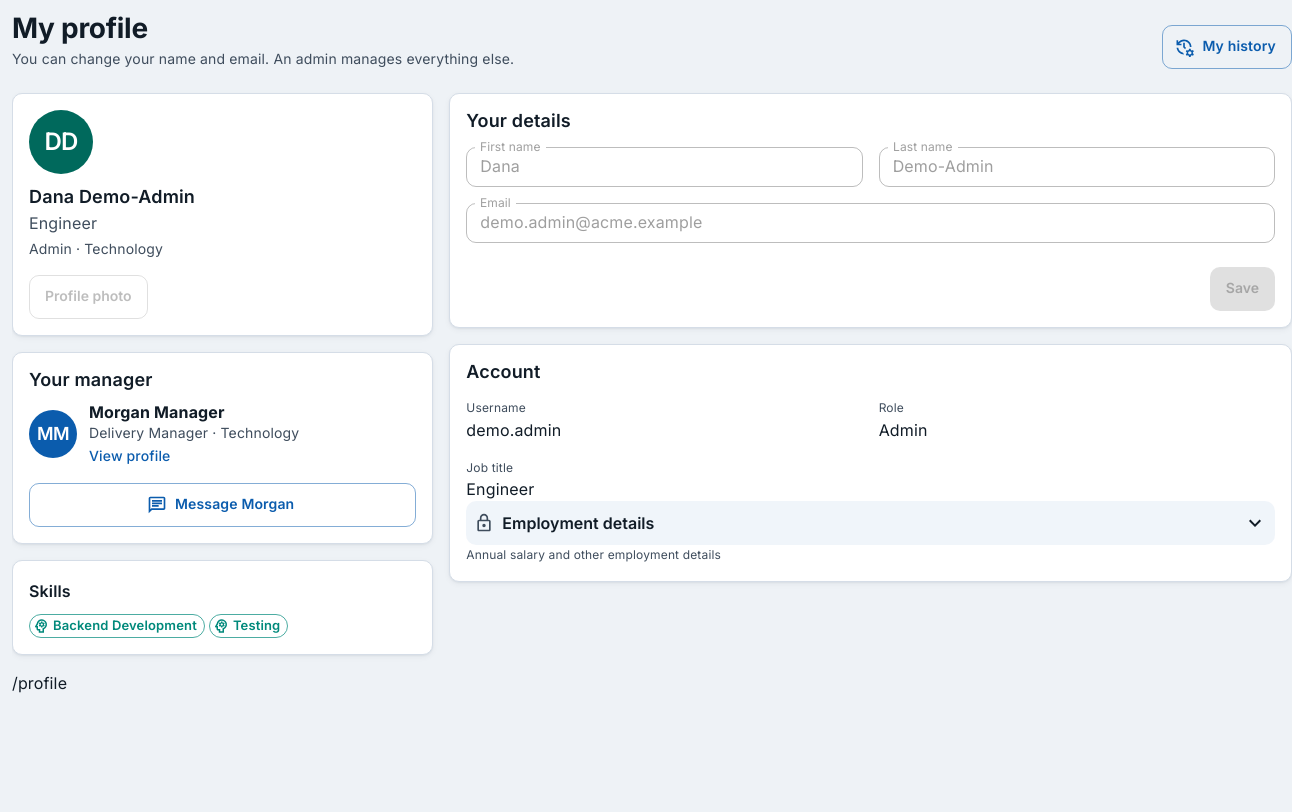
Scenario: My profile › the demo admin cannot change the photo or save
Check: the button "Profile photo" is disabled, box [29,275,148,319]
Hover over the element showing "Profile photo" at (88, 291), box [29,263,148,319]
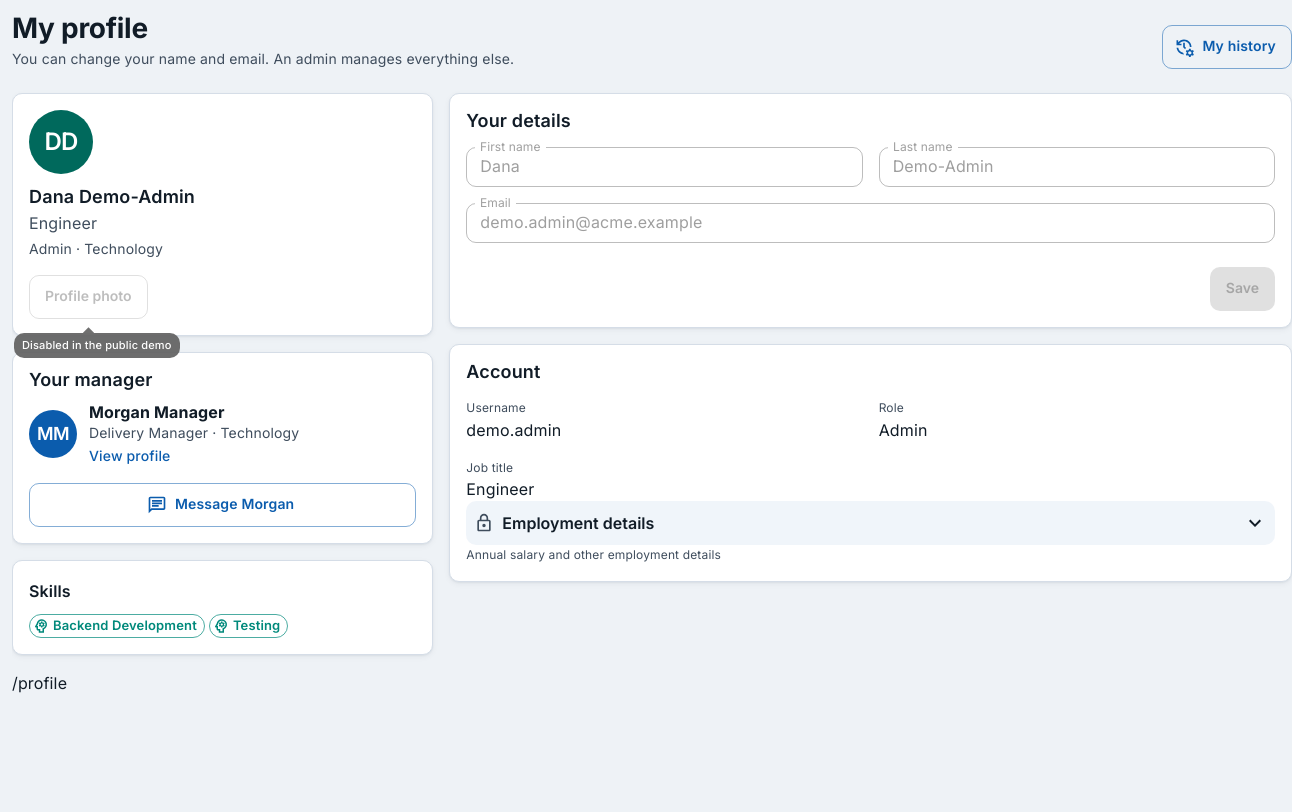
Check: the button "Save" is disabled, box [1210,267,1275,311]
Check: the tooltip reads "Disabled in the public demo", box [22,338,172,352]
